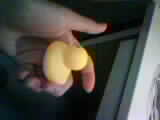duck: (41, 28, 97, 85)
